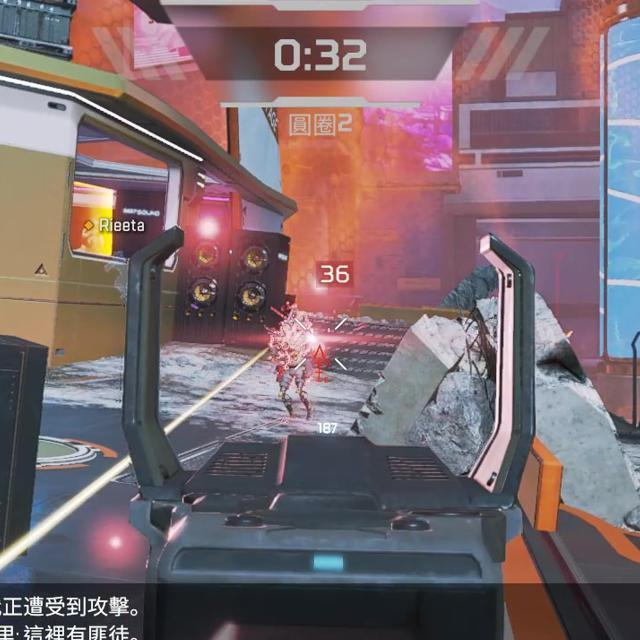avatar: (272, 306, 318, 424)
